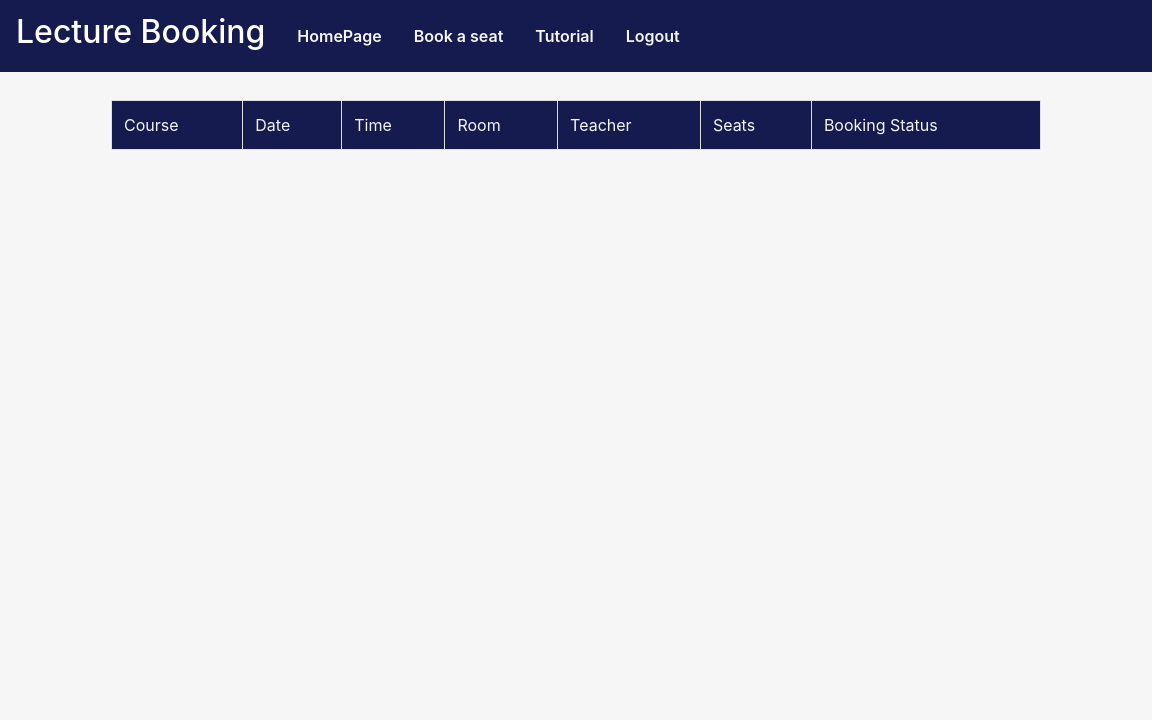
Test: Check HomePage
Click the link "HomePage": (340, 36) [297, 26, 382, 46]
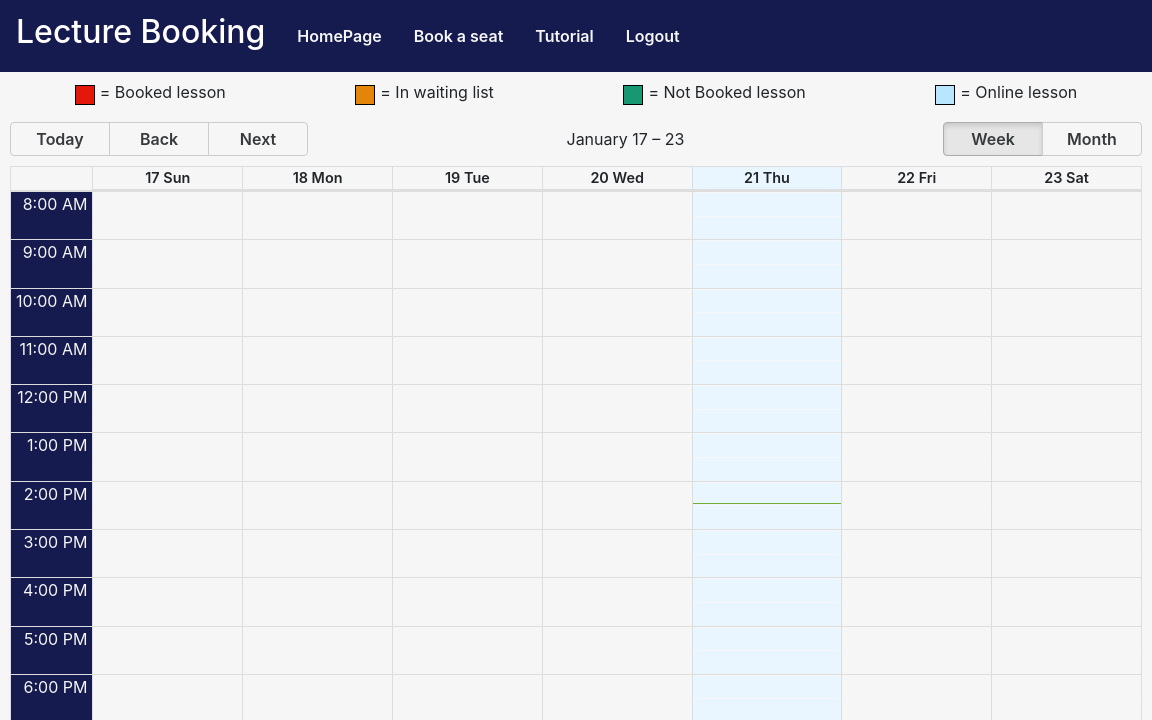
Expected: the text "= Booked lesson" is shown, [75, 77, 226, 107]
Expected: the text "= Not Booked lesson" is shown, [623, 77, 806, 107]
Expected: the text "= Online lesson" is shown, [935, 77, 1077, 107]
